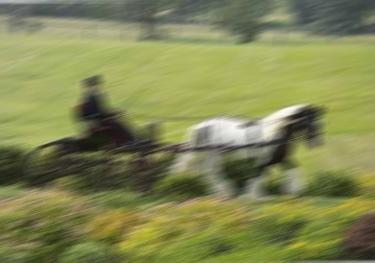horse: (169, 104, 326, 200)
